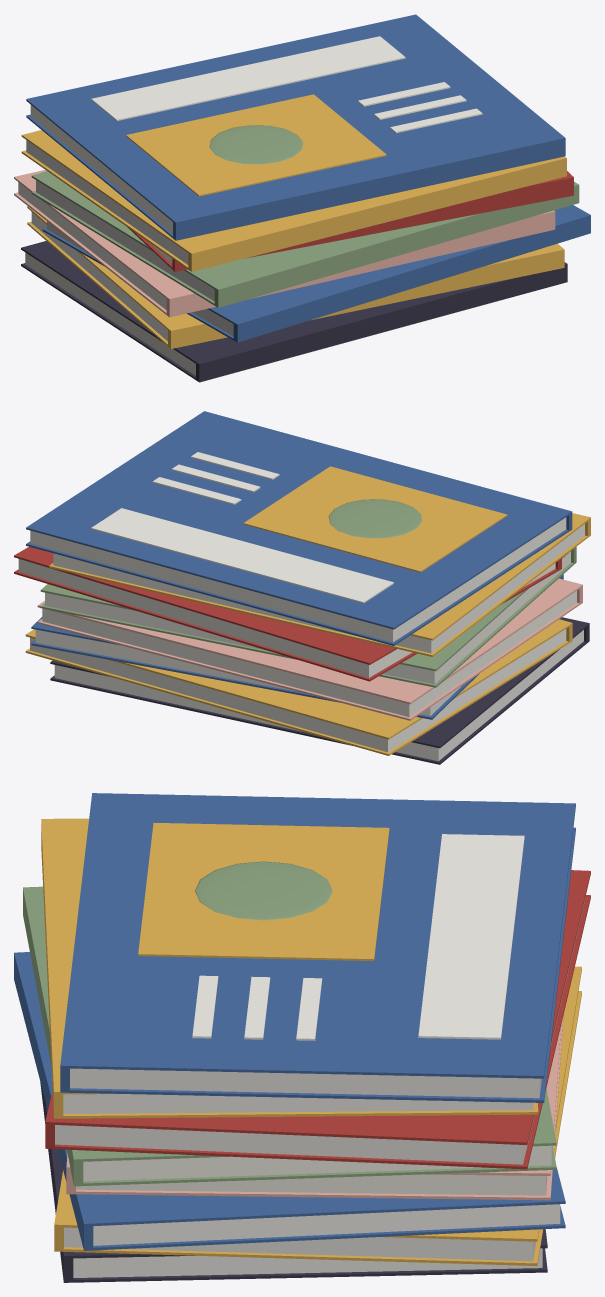
Rendered from hh_cat_magazine_pile.glb.
The picture shows the model from 3 angles, top to bottom: view 1: azimuth 30°, elevation 25°; view 2: azimuth 150°, elevation 25°; view 3: azimuth 270°, elevation 25°; orthographic projection. The views are drawn at different scales.
Parts seen in each view (by area): view 1: cover.015, cover_photo, masthead, spine.002, spine.004, spine, spine.007, cover.013, spine.006, cover.001, cover.009, spine.001 (+23 smaller); view 2: cover.015, cover_photo, masthead, pages.007, pages.003, pages.001, cover.007, cover.003, pages.005, cover.011, pages, pages.006 (+18 smaller); view 3: cover.015, cover_photo, masthead, cover.011, cover.005, pages.005, pages.007, pages.002, cover.013, pages.006, pages.003, pages (+24 smaller).
Boxes of the visible parts, left/top/right/bottom form: cover.015: left=26, top=14, right=565, bottom=224; cover_photo: left=126, top=94, right=386, bottom=196; masthead: left=91, top=36, right=405, bottom=120; spine.002: left=233, top=213, right=590, bottom=342; spine.004: left=214, top=182, right=579, bottom=307; spine: left=196, top=262, right=567, bottom=382; spine.007: left=173, top=138, right=565, bottom=240; cover.013: left=21, top=130, right=566, bottom=255; spine.006: left=188, top=159, right=566, bottom=271; cover.001: left=21, top=241, right=567, bottom=365; cover.009: left=31, top=171, right=578, bottom=290; spine.001: left=168, top=247, right=564, bottom=348; cover.015: left=26, top=411, right=571, bottom=629; cover_photo: left=243, top=466, right=507, bottom=572; masthead: left=91, top=508, right=393, bottom=603; pages.007: left=30, top=517, right=566, bottom=642; pages.003: left=42, top=591, right=576, bottom=717; pages.001: left=30, top=629, right=566, bottom=752; cover.007: left=37, top=578, right=582, bottom=704; cover.003: left=25, top=619, right=571, bottom=739; pages.005: left=18, top=559, right=555, bottom=677; cover.011: left=14, top=546, right=396, bottom=664; pages: left=54, top=630, right=583, bottom=761; pages.006: left=53, top=524, right=584, bottom=653; cover.015: left=60, top=793, right=575, bottom=1078; cover_photo: left=138, top=823, right=389, bottom=960; masthead: left=418, top=834, right=524, bottom=1039; cover.011: left=45, top=870, right=590, bottom=1144; cover.005: left=14, top=952, right=565, bottom=1226; pages.005: left=55, top=897, right=585, bottom=1164; pages.007: left=70, top=1068, right=541, bottom=1098; pages.002: left=93, top=1204, right=560, bottom=1245; cover.013: left=41, top=818, right=115, bottom=1094; pages.006: left=63, top=1094, right=533, bottom=1113; pages.003: left=76, top=1174, right=547, bottom=1195; pages: left=73, top=1248, right=542, bottom=1277.
Bounding box in the file's own units: 0.3 × 0.1 × 0.24.
